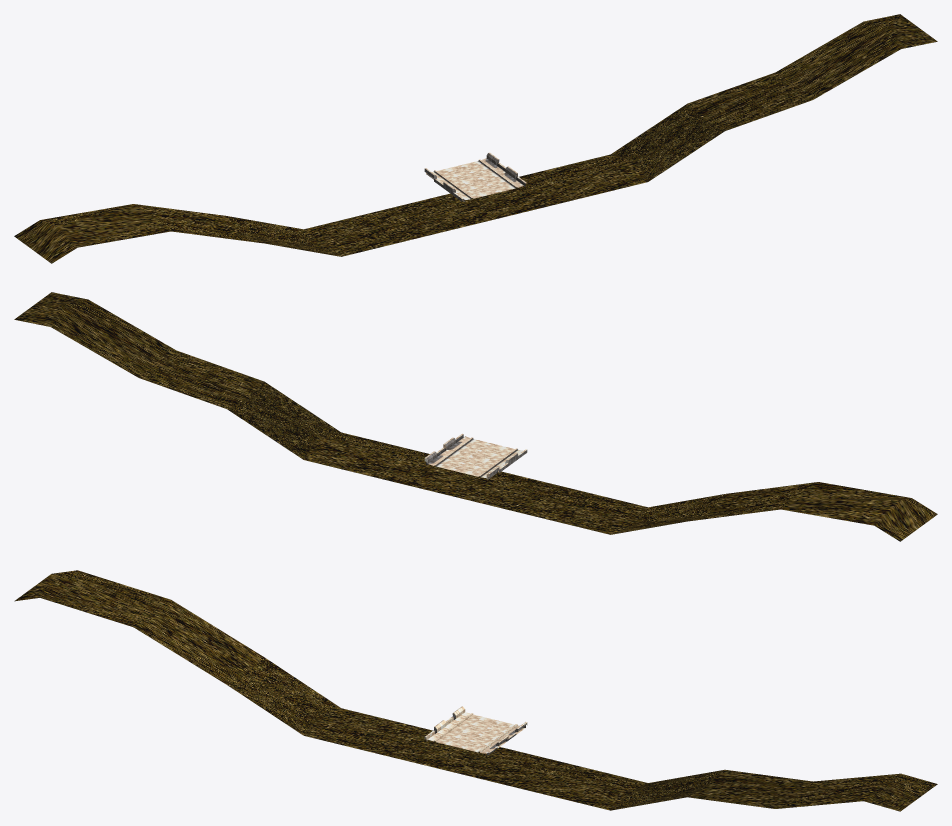
Rendered from road_block_1.glb.
The picture shows the model from 3 angles, top to bottom: view 1: azimuth 30°, elevation 25°; view 2: azimuth 150°, elevation 25°; view 3: azimuth 330°, elevation 25°; orthographic projection.
Visible parts, largest first — view 1: Ground, RoadBlock1; view 2: Ground, RoadBlock1; view 3: Ground, RoadBlock1.
Boxes of the visible parts, bbox=[...] form: Ground: bbox=[14, 14, 937, 263]; RoadBlock1: bbox=[424, 152, 526, 201]; Ground: bbox=[14, 292, 937, 541]; RoadBlock1: bbox=[424, 433, 527, 479]; Ground: bbox=[14, 570, 937, 811]; RoadBlock1: bbox=[424, 706, 527, 755].
Bounding box in the file's own units: 136 × 12.37 × 10.01.
2 materials, 2 textured.
